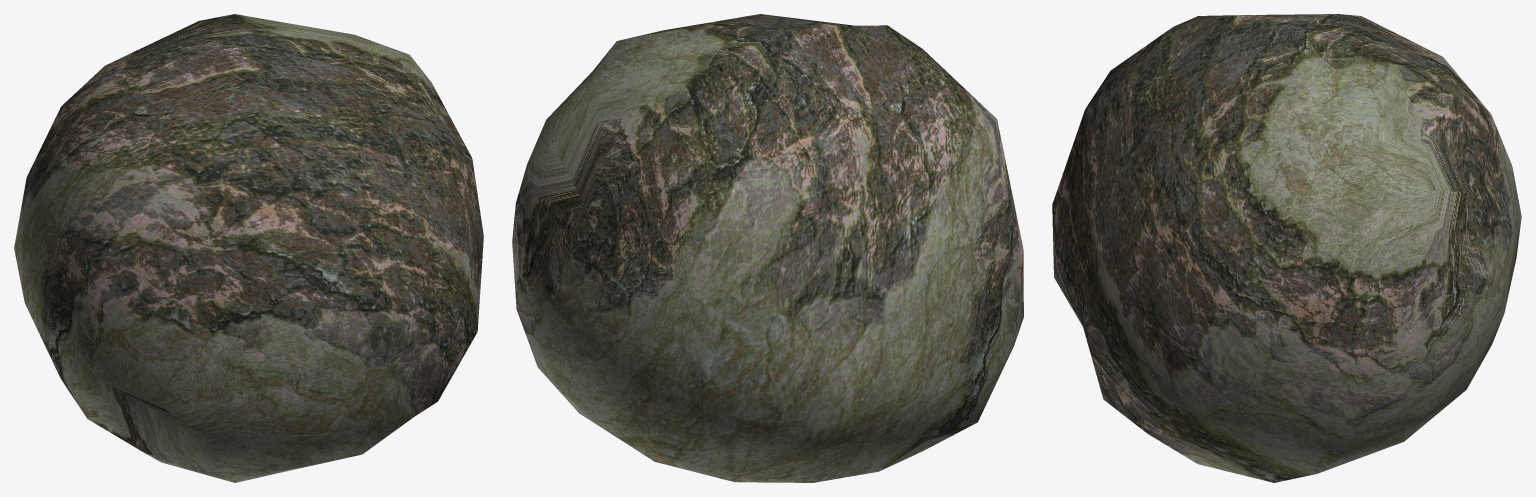
File: boulder-01.fbx
The picture shows the model from 3 angles, left to right: view 1: azimuth 30°, elevation 25°; view 2: azimuth 150°, elevation 25°; view 3: azimuth 270°, elevation 25°; orthographic projection. The views are drawn at different scales.
Parts seen in each view (by area): view 1: rock; view 2: rock; view 3: rock.
Part boxes in pixels (x1,y1,x2,y2): rock: [14, 14, 483, 482]; rock: [512, 14, 1023, 482]; rock: [1052, 14, 1521, 482].
Size of the model in its own units: 105 by 100 by 103.
